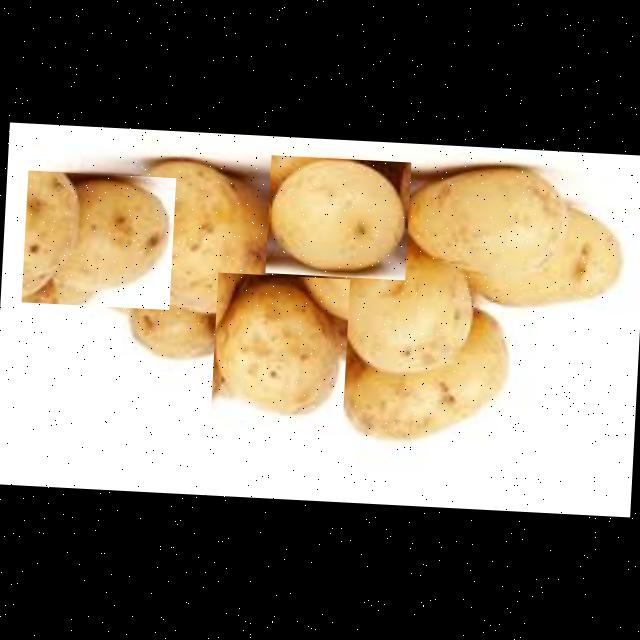Potato: (113, 157, 284, 320), (333, 299, 514, 452), (312, 233, 480, 377), (22, 170, 176, 310), (211, 272, 350, 426), (403, 159, 570, 276), (266, 156, 412, 280)
